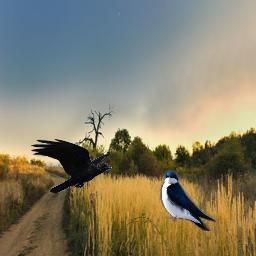Crow: (30, 138, 113, 193)
Swallow: (160, 170, 216, 231)
